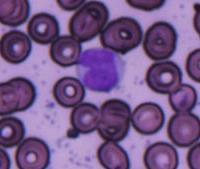M: (76, 46, 125, 92)
